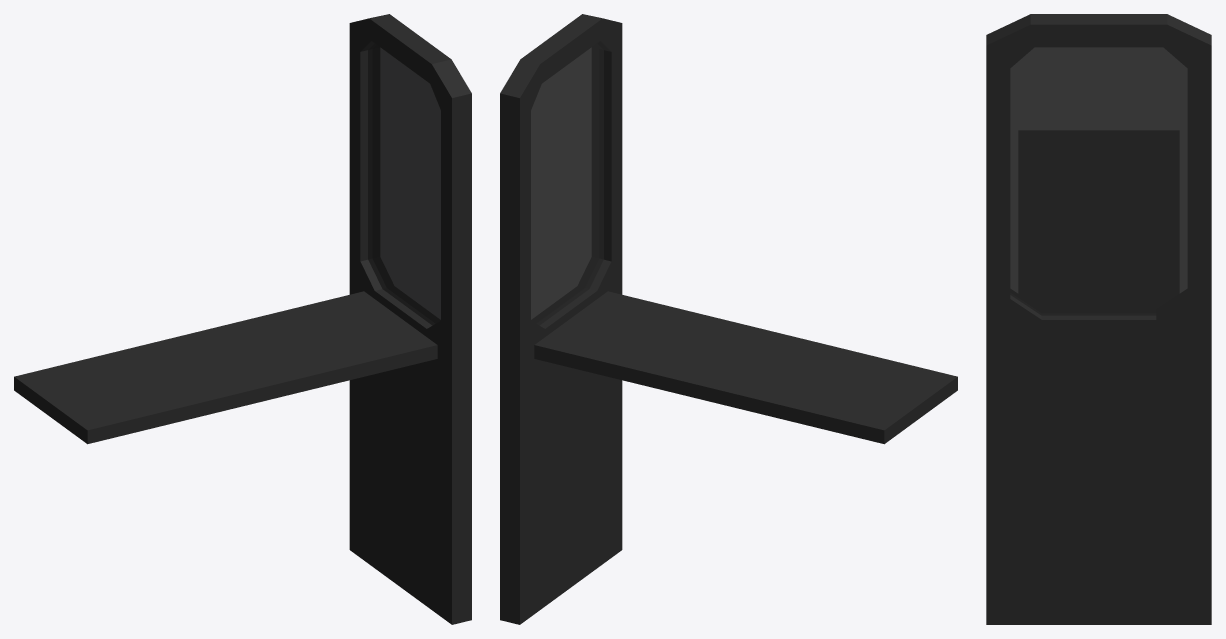
The model's file is firingrangeCounter.fbx.
3 renders of one model, left to right at view 1: azimuth 30°, elevation 25°; view 2: azimuth 150°, elevation 25°; view 3: azimuth 270°, elevation 25°, orthographic. The views are drawn at different scales.
Visible parts, largest first — view 1: Cube; view 2: Cube; view 3: Cube.
Part boxes in pixels (x1,y1,x2,y2): Cube: (14, 14, 471, 624); Cube: (500, 14, 957, 624); Cube: (986, 14, 1211, 624).
Bounding box in the file's own units: 581 × 820 × 279.
